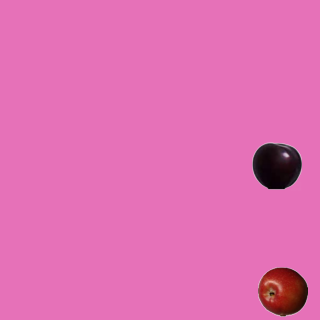Apple Braeburn: (257, 266, 307, 316)
Cherry Wax Black: (251, 140, 301, 190)
